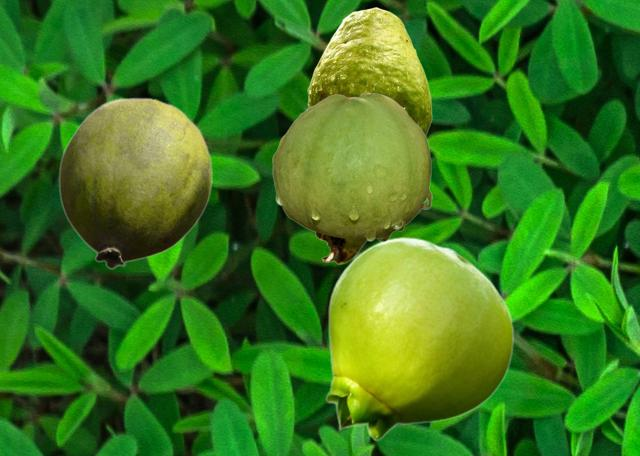guava: (325, 237, 513, 440), (272, 92, 431, 263), (58, 97, 212, 268), (307, 7, 431, 135)
